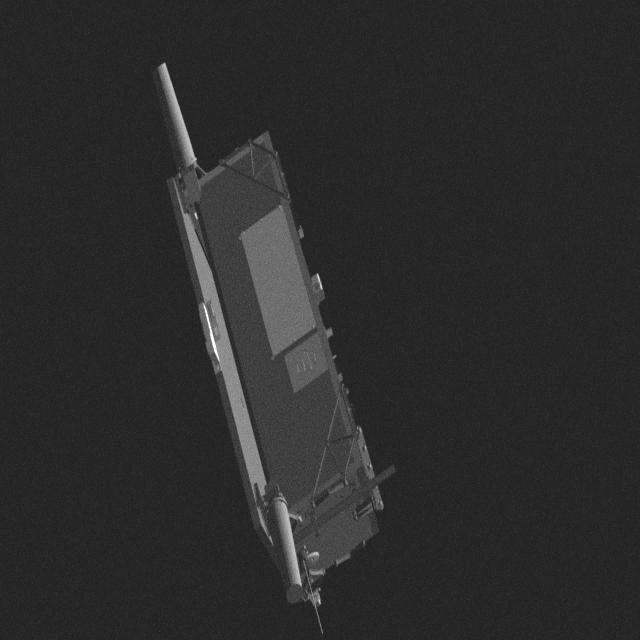medium_debris: (154, 46, 394, 634)
